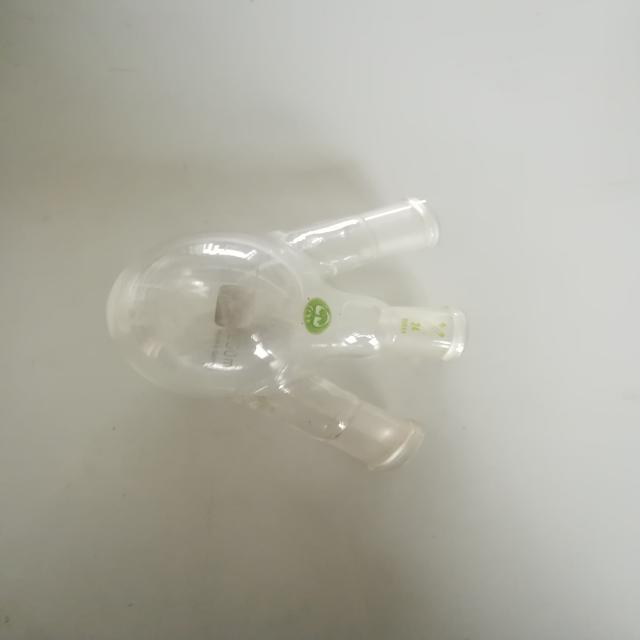Round_Bottom_Flask_Borosilicate_Glass_3_Neck: (76, 138, 504, 512)
